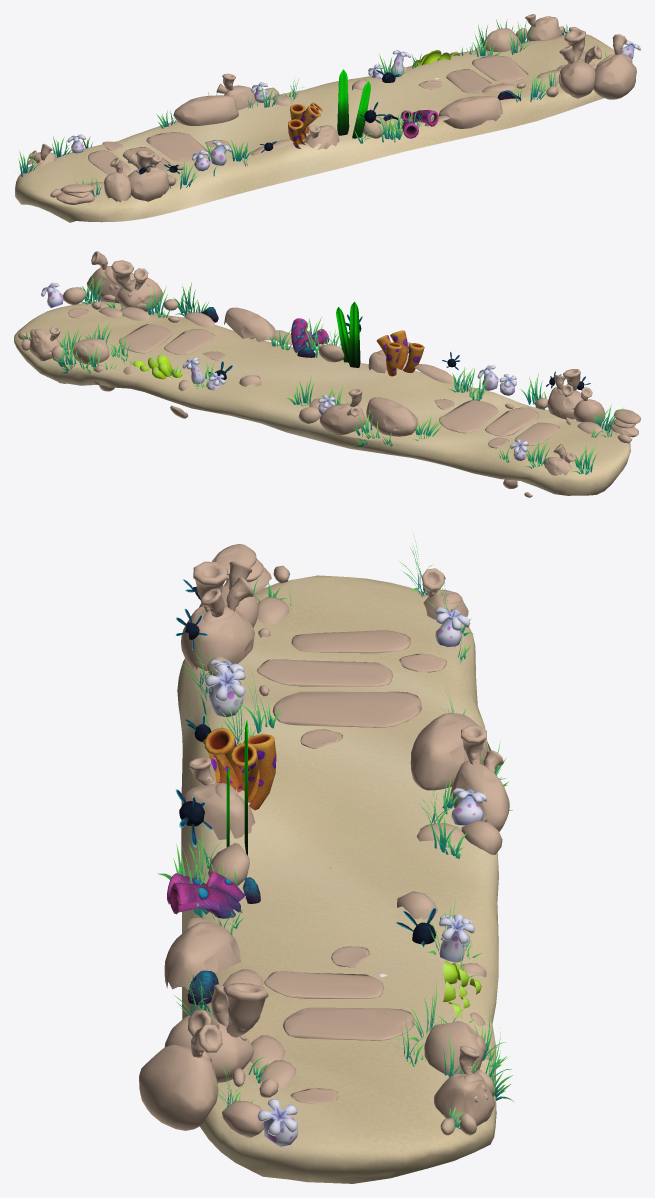
File: road1.fbx
3 views of the same model, one above another, from view 1: azimuth 30°, elevation 25°; view 2: azimuth 150°, elevation 25°; view 3: azimuth 270°, elevation 25° (orthographic). The views are drawn at different scales.
Visible parts, largest first — view 1: MainPlatform_AppleField_SandTile_Mat_0, applefields_stage_deco, applefields_stage_grass, applefields_stage_deco2, Coral02_AppleField_Coral_Mat_0, AppleFields_Kelp_17_AppleField_Kelp_01_0, Coral03_AppleField_Coral_Mat_0, AppleFields_Kelp_18_AppleField_Kelp_01_0, Shell_Anemone_01; view 2: MainPlatform_AppleField_SandTile_Mat_0, applefields_stage_deco, applefields_stage_grass, applefields_stage_deco2, Coral02_AppleField_Coral_Mat_0, Coral03_AppleField_Coral_Mat_0, AppleFields_Kelp_17_AppleField_Kelp_01_0, Shell_Anemone_01, AppleFields_Kelp_18_AppleField_Kelp_01_0; view 3: MainPlatform_AppleField_SandTile_Mat_0, applefields_stage_deco, applefields_stage_grass, applefields_stage_deco2, Coral02_AppleField_Coral_Mat_0, Coral03_AppleField_Coral_Mat_0, Shell_Anemone_01.
Part boxes in pixels (x1,y1,x2,y2): MainPlatform_AppleField_SandTile_Mat_0: (15, 34, 614, 222); applefields_stage_deco: (28, 14, 636, 204); applefields_stage_grass: (18, 19, 608, 196); applefields_stage_deco2: (67, 40, 640, 171); Coral02_AppleField_Coral_Mat_0: (288, 102, 322, 148); AppleFields_Kelp_17_AppleField_Kelp_01_0: (337, 69, 349, 135); Coral03_AppleField_Coral_Mat_0: (401, 110, 438, 138); AppleFields_Kelp_18_AppleField_Kelp_01_0: (352, 81, 370, 138); Shell_Anemone_01: (412, 50, 459, 68); MainPlatform_AppleField_SandTile_Mat_0: (14, 301, 630, 495); applefields_stage_deco: (18, 251, 640, 497); applefields_stage_grass: (17, 274, 623, 474); applefields_stage_deco2: (41, 282, 528, 460); Coral02_AppleField_Coral_Mat_0: (376, 330, 424, 376); Coral03_AppleField_Coral_Mat_0: (291, 318, 329, 352); AppleFields_Kelp_17_AppleField_Kelp_01_0: (348, 301, 360, 367); Shell_Anemone_01: (133, 354, 182, 379); AppleFields_Kelp_18_AppleField_Kelp_01_0: (336, 307, 349, 362); MainPlatform_AppleField_SandTile_Mat_0: (177, 575, 498, 1183); applefields_stage_deco: (139, 544, 509, 1160); applefields_stage_grass: (157, 534, 514, 1128); applefields_stage_deco2: (205, 607, 486, 1146); Coral02_AppleField_Coral_Mat_0: (203, 727, 276, 810); Coral03_AppleField_Coral_Mat_0: (167, 871, 245, 918); Shell_Anemone_01: (443, 961, 481, 1015).
Size of the model in its own units: 59405 by 10247 by 16279.
